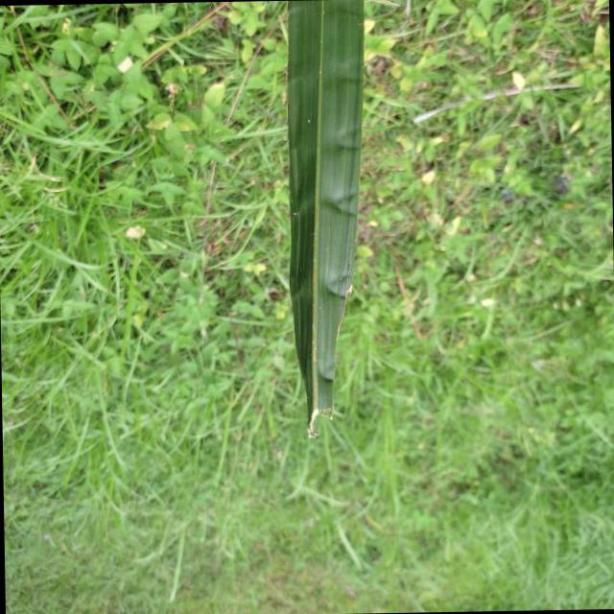Boron: (285, 0, 363, 445)
